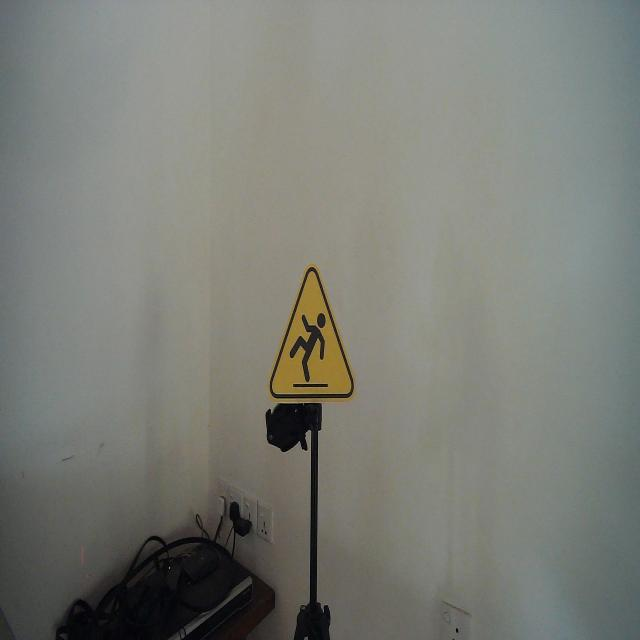slippery_sign: (265, 262, 358, 404)
